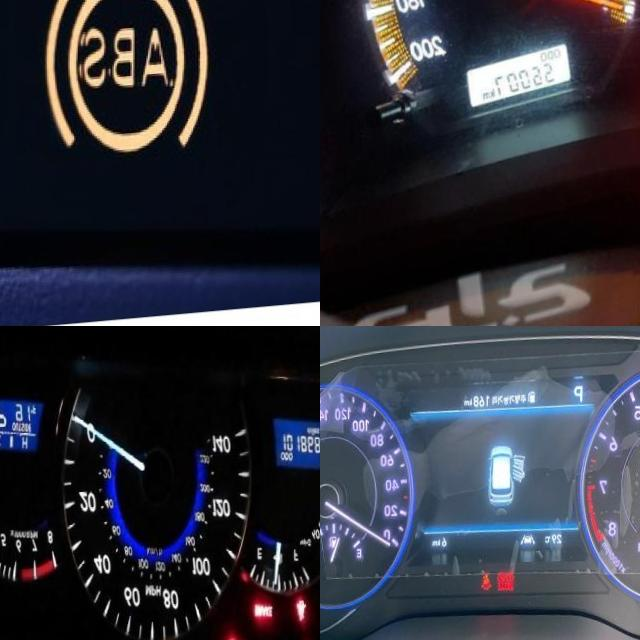LaneCenteringOff: (520, 538, 535, 552)
Seat Belt: (294, 607, 306, 631)
